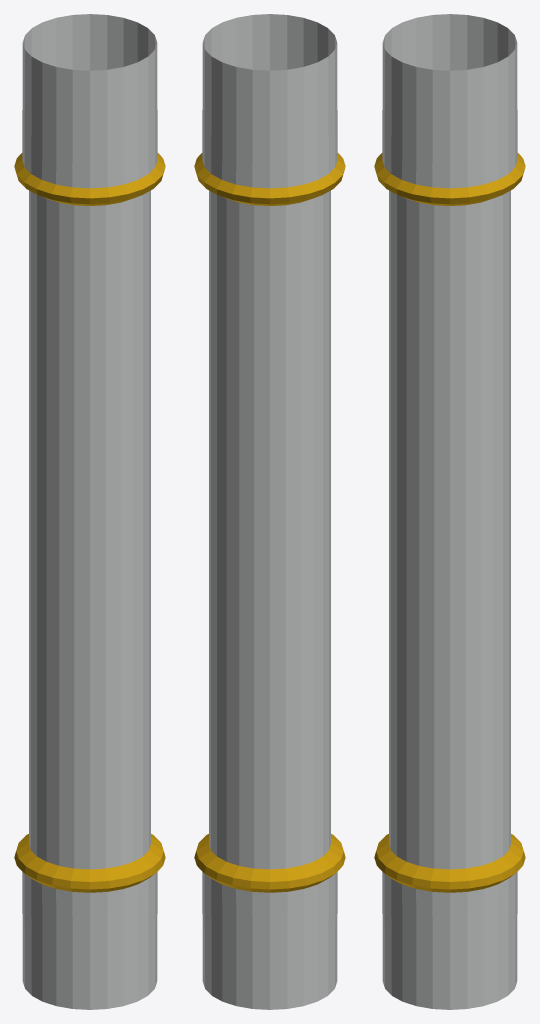
File: Pillar.fbx
The picture shows the model from 3 angles, left to right: view 1: azimuth 30°, elevation 25°; view 2: azimuth 150°, elevation 25°; view 3: azimuth 270°, elevation 25°; orthographic projection.
Visible parts, largest first — view 1: Cylinder.001; view 2: Cylinder.001; view 3: Cylinder.001.
Part boxes in pixels (x1,y1,x2,y2): Cylinder.001: [14, 14, 165, 1009]; Cylinder.001: [194, 14, 345, 1009]; Cylinder.001: [374, 14, 525, 1009].
Bounding box in the file's own units: 149 × 149 × 1018.
